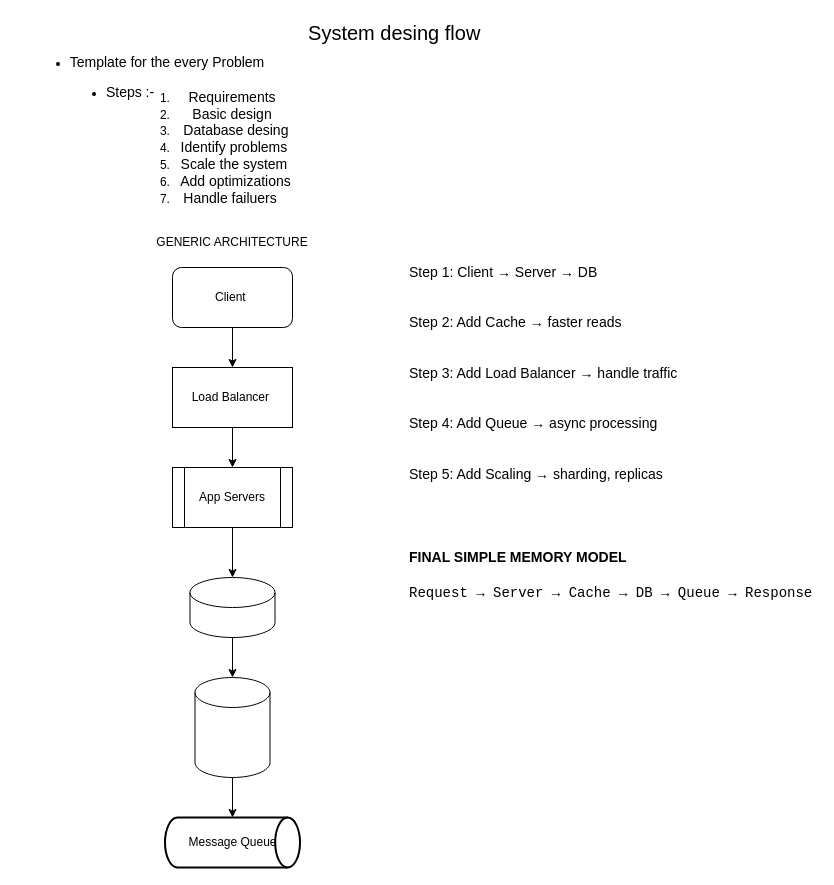
The diagram is 834 pixels wide and 885 high, and some of its shapes have lost their labels. The shapes that lost their labels are listed below. From the top down, each one's centre as x and y in pixels, then its label:
point 232,607: Cache (Redis)
point 232,727: Database
